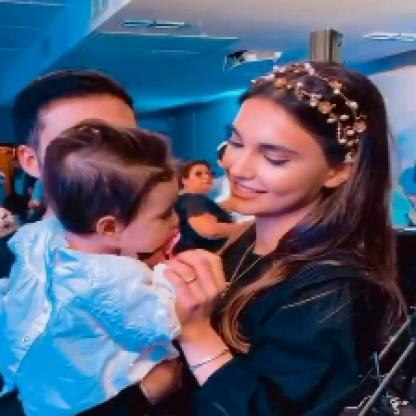child: (1, 122, 185, 416)
